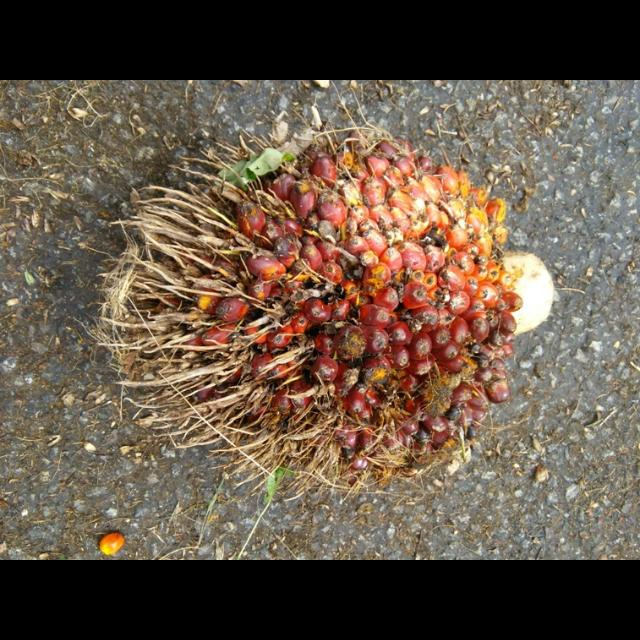Ripe: (102, 131, 552, 498)
